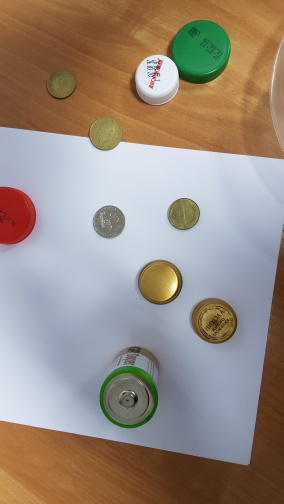coin: (88, 117, 124, 152), (92, 205, 126, 240), (167, 197, 200, 231), (45, 68, 78, 100)
